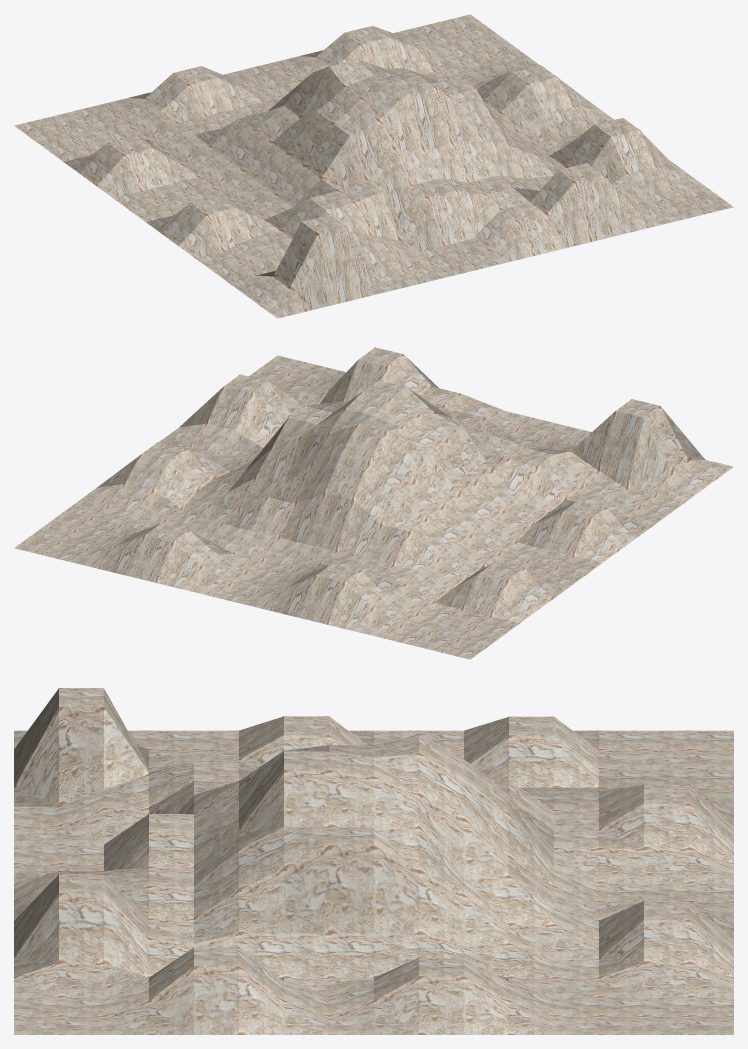
File: courser14a.obj
3 views of the same model, one above another, from view 1: azimuth 30°, elevation 25°; view 2: azimuth 150°, elevation 25°; view 3: azimuth 270°, elevation 25° (orthographic). The views are drawn at different scales.
Visible parts, largest first — view 1: Plane; view 2: Plane; view 3: Plane.
Boxes of the visible parts, left/top/right/bottom form: Plane: left=14, top=14, right=733, bottom=318; Plane: left=14, top=347, right=733, bottom=659; Plane: left=14, top=688, right=733, bottom=1034.
Size of the model in its own units: 40 by 8.04 by 40.
1 material, 1 textured.
